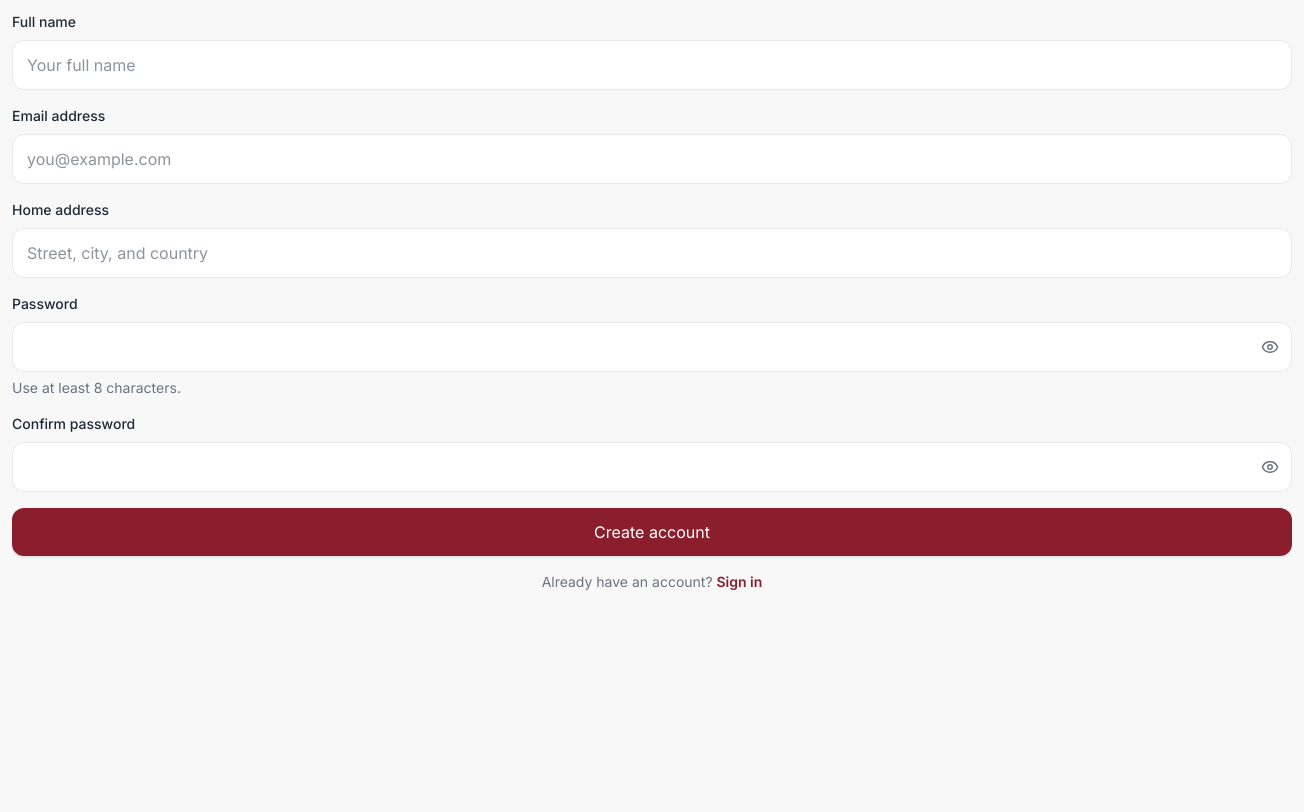
Scenario: SignupForm › shows an error when passwords do not match
Type "Jane Doe" into the field labelled "Full name" at (652,65), box [12, 40, 1292, 90]
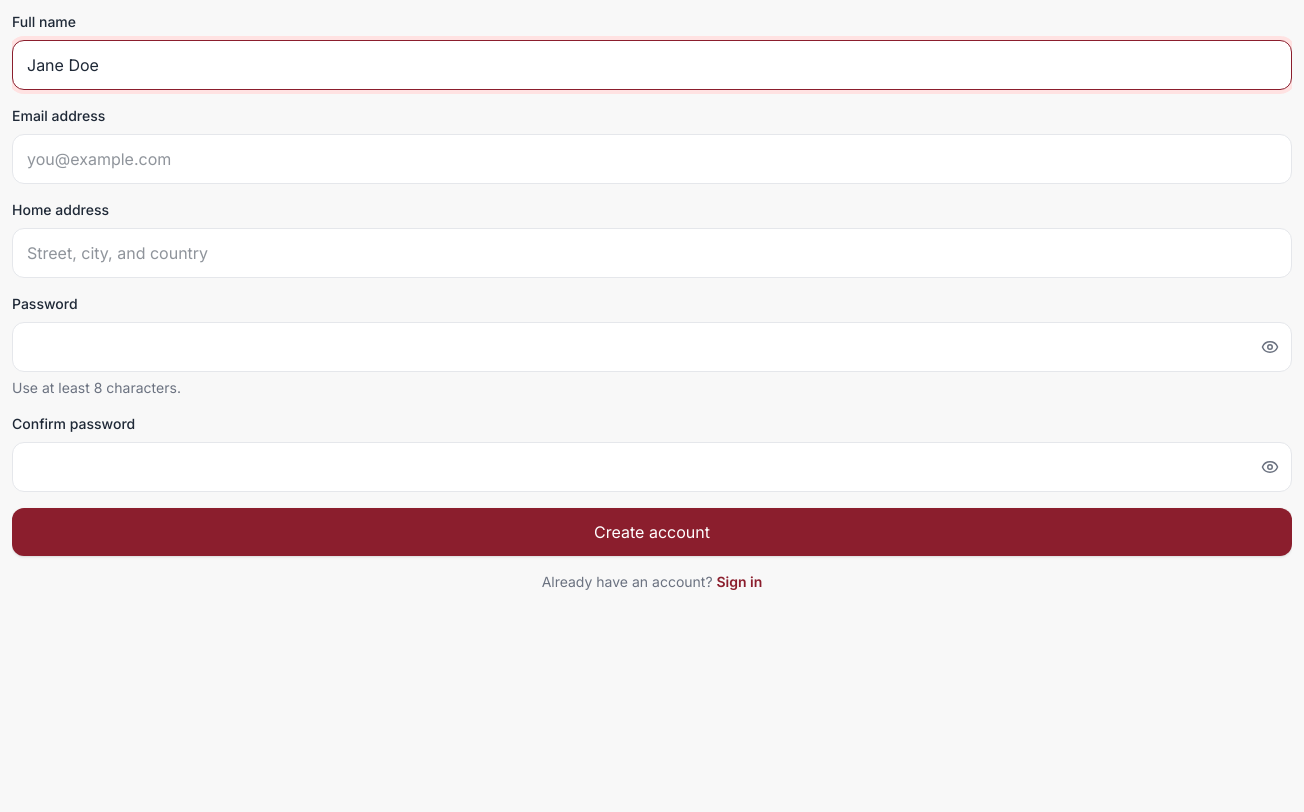
Type "jane@example.com" into the field labelled "Email address" at (652,159), box [12, 134, 1292, 184]
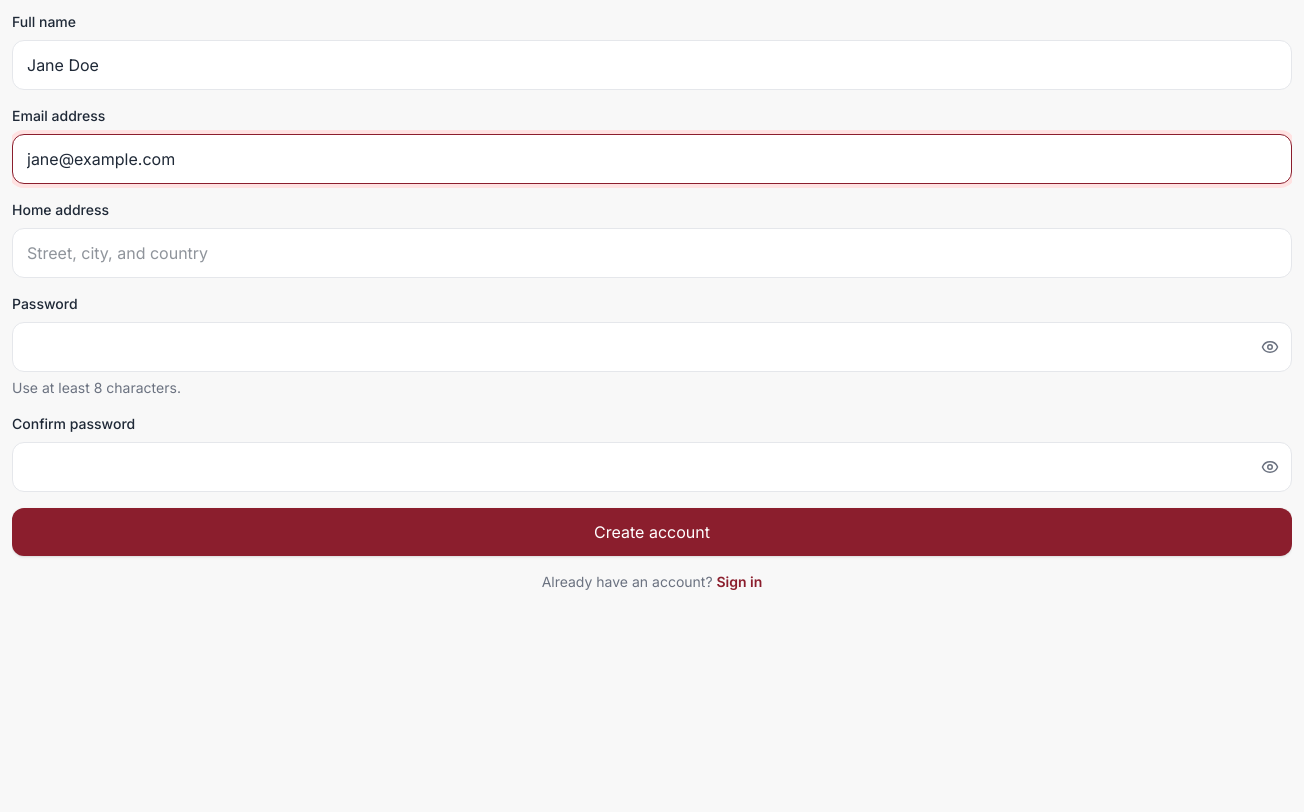
Type "123 Main St" into the field labelled "Home address" at (652,253), box [12, 228, 1292, 278]
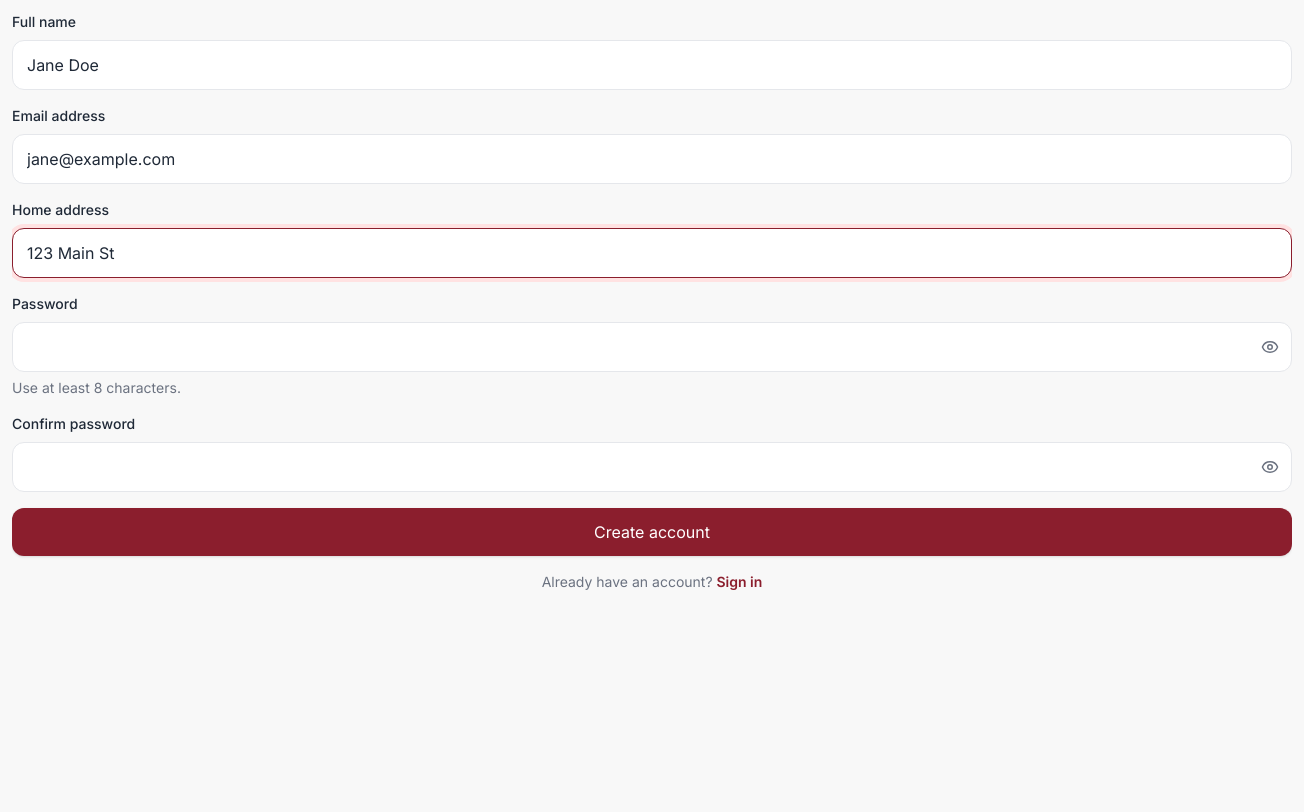
Type "password1" into the password field labelled "Password" at (652,347), box [12, 322, 1292, 372]
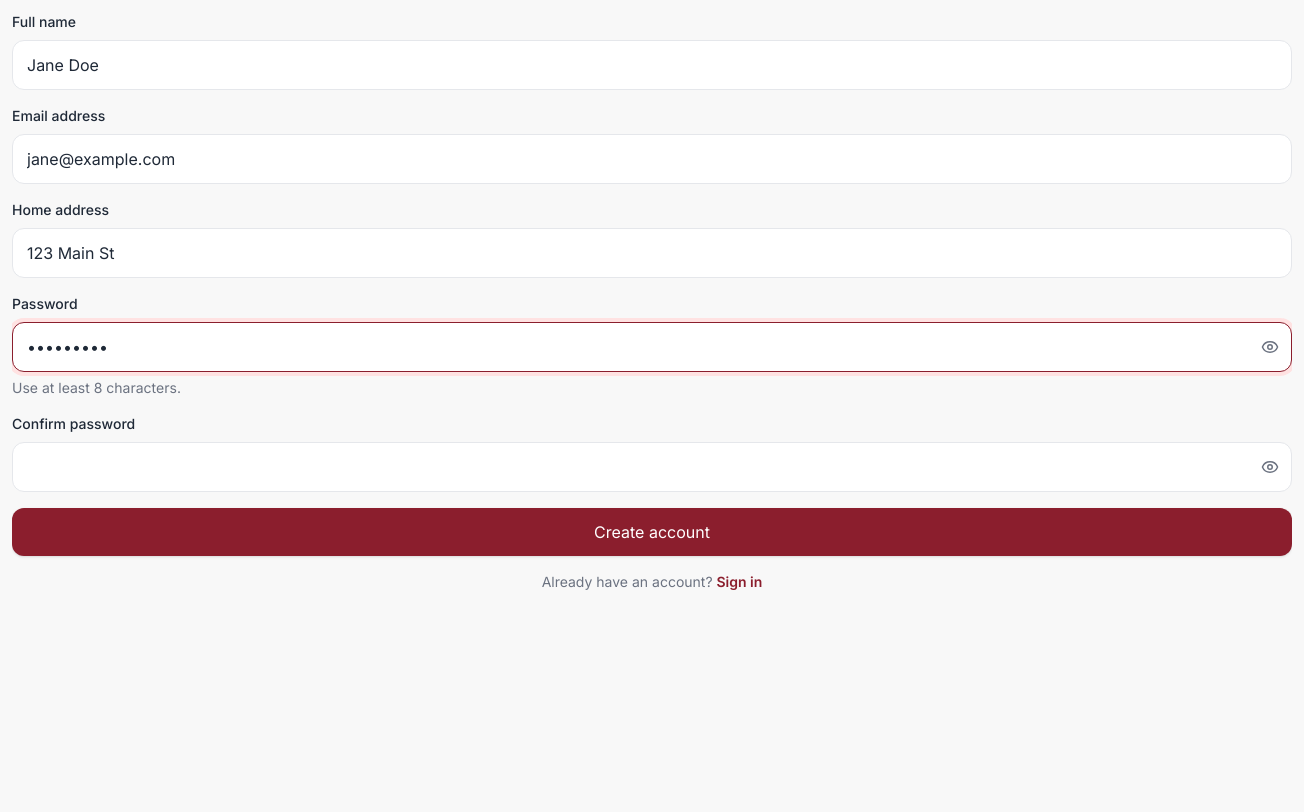
Type "password2" into the password field labelled "Confirm password" at (652,467), box [12, 442, 1292, 492]
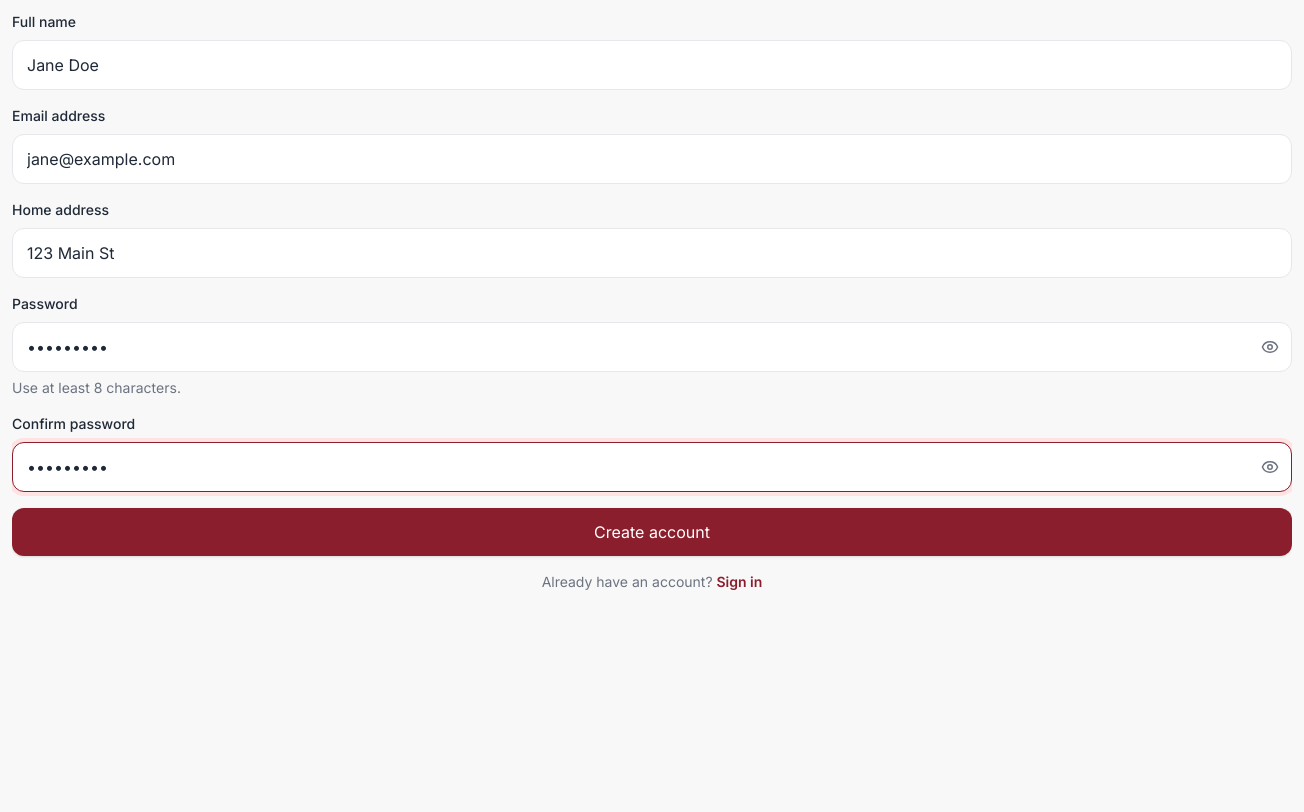
Click the button "Create account" at (652,532), box [12, 508, 1292, 556]
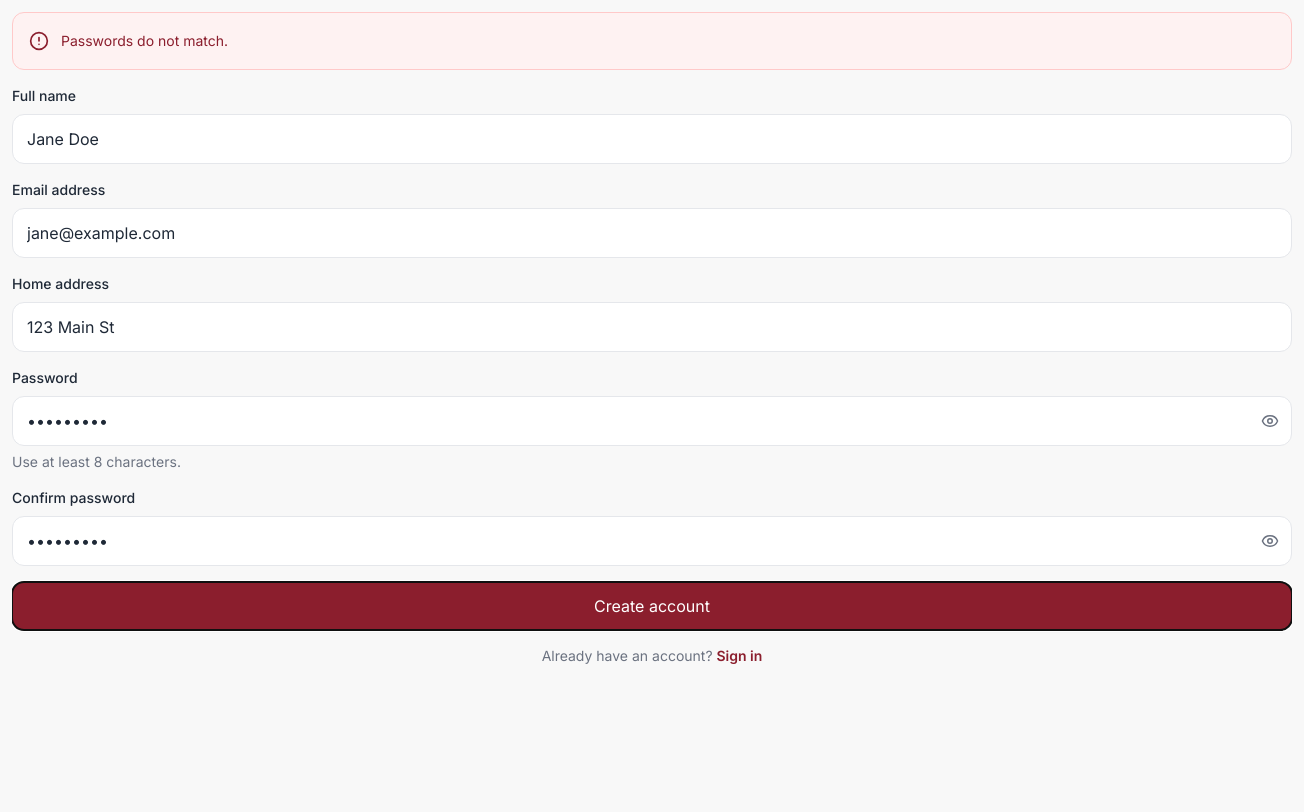
Check: the message reads "Passwords do not match.", box [61, 32, 228, 49]
